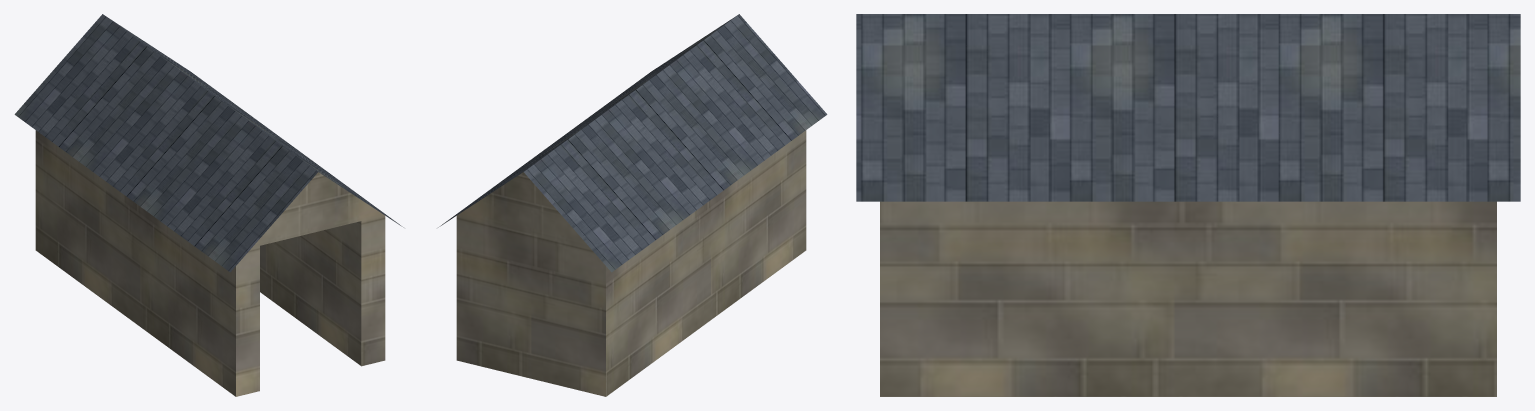
File: fort-cellar-stair.fort-v1.lod1.glb
3 renders of one model, left to right at view 1: azimuth 30°, elevation 25°; view 2: azimuth 150°, elevation 25°; view 3: azimuth 270°, elevation 25°, orthographic. The views are drawn at different scales.
Visible parts, largest first — view 1: fort-cellar-stair; view 2: fort-cellar-stair; view 3: fort-cellar-stair.
Part boxes in pixels (x1,y1,x2,y2): fort-cellar-stair: [14, 14, 403, 396]; fort-cellar-stair: [438, 14, 827, 396]; fort-cellar-stair: [856, 14, 1520, 396].
Bounding box in the file's own units: 3.3 × 3.8 × 7.
Materials: 3 (3 with a texture image).
